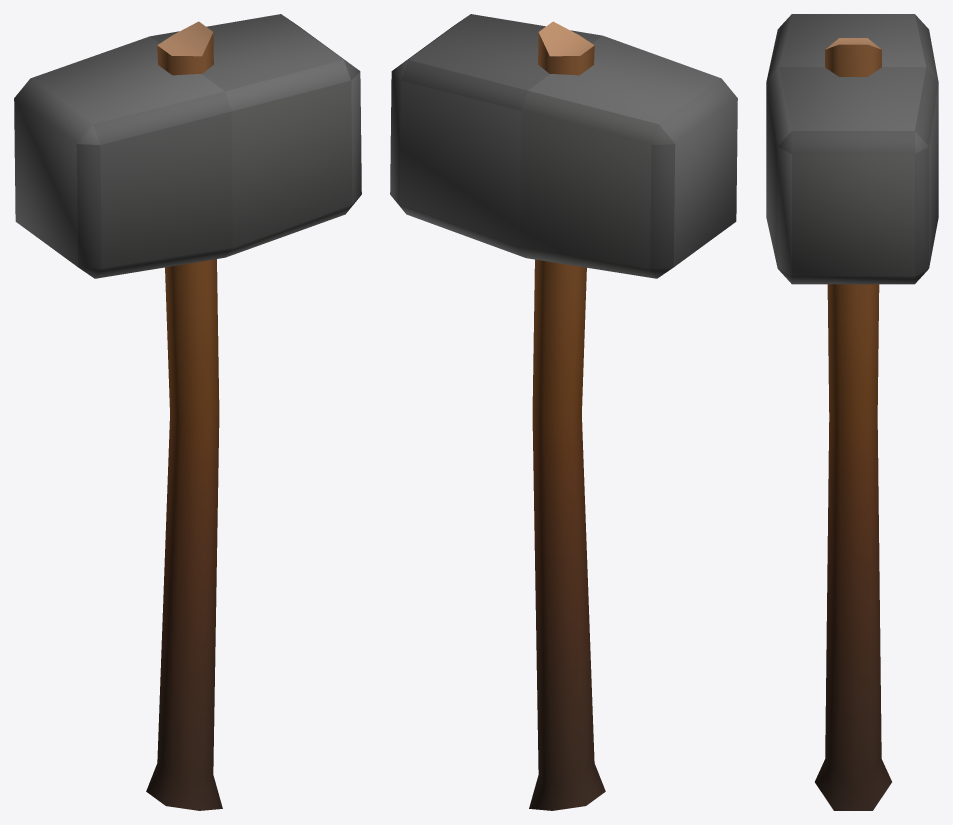
The model's file is Mace1h_01.fbx.
The picture shows the model from 3 angles, left to right: view 1: azimuth 30°, elevation 25°; view 2: azimuth 150°, elevation 25°; view 3: azimuth 270°, elevation 25°; orthographic projection.
Parts seen in each view (by area): view 1: Mace1h_01; view 2: Mace1h_01; view 3: Mace1h_01.
Part boxes in pixels (x1=…): Mace1h_01: x1=14, y1=14, x2=361, y2=810; Mace1h_01: x1=390, y1=14, x2=737, y2=810; Mace1h_01: x1=766, y1=14, x2=938, y2=810.
Bounding box in the file's own units: 24.11 × 62.77 × 12.85.
